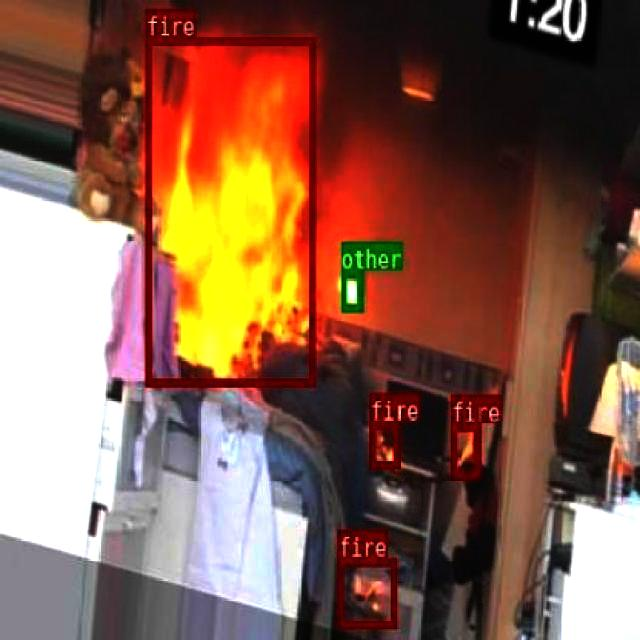fire: (143, 37, 314, 386), (336, 558, 396, 626), (451, 421, 478, 477), (368, 422, 398, 466)
